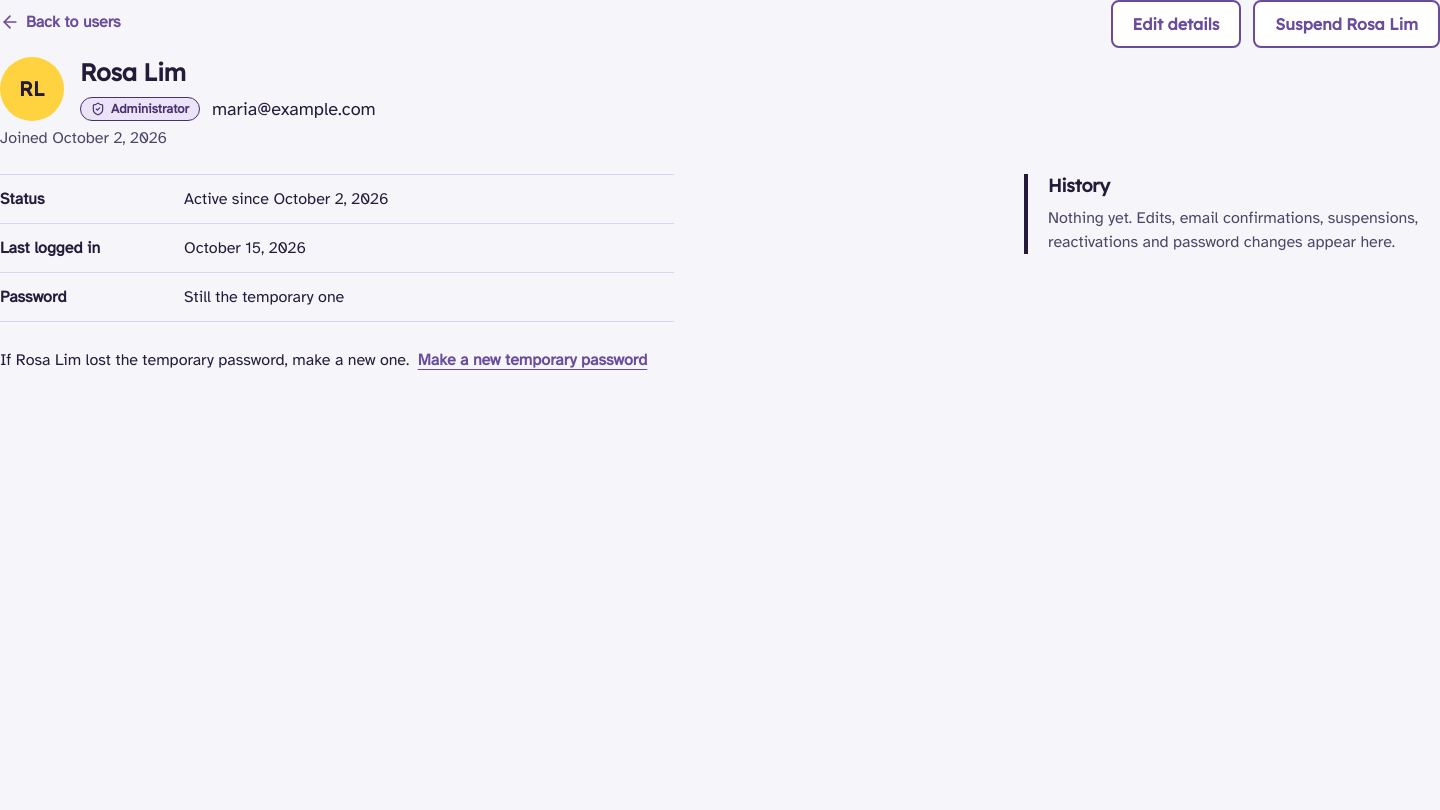
Scenario: UserPage › makes a new temporary password for an administrator who lost theirs
The image size is (1440, 810).
Click the button "Make a new temporary password": (533, 360) top-left (414, 338), bottom-right (651, 382)
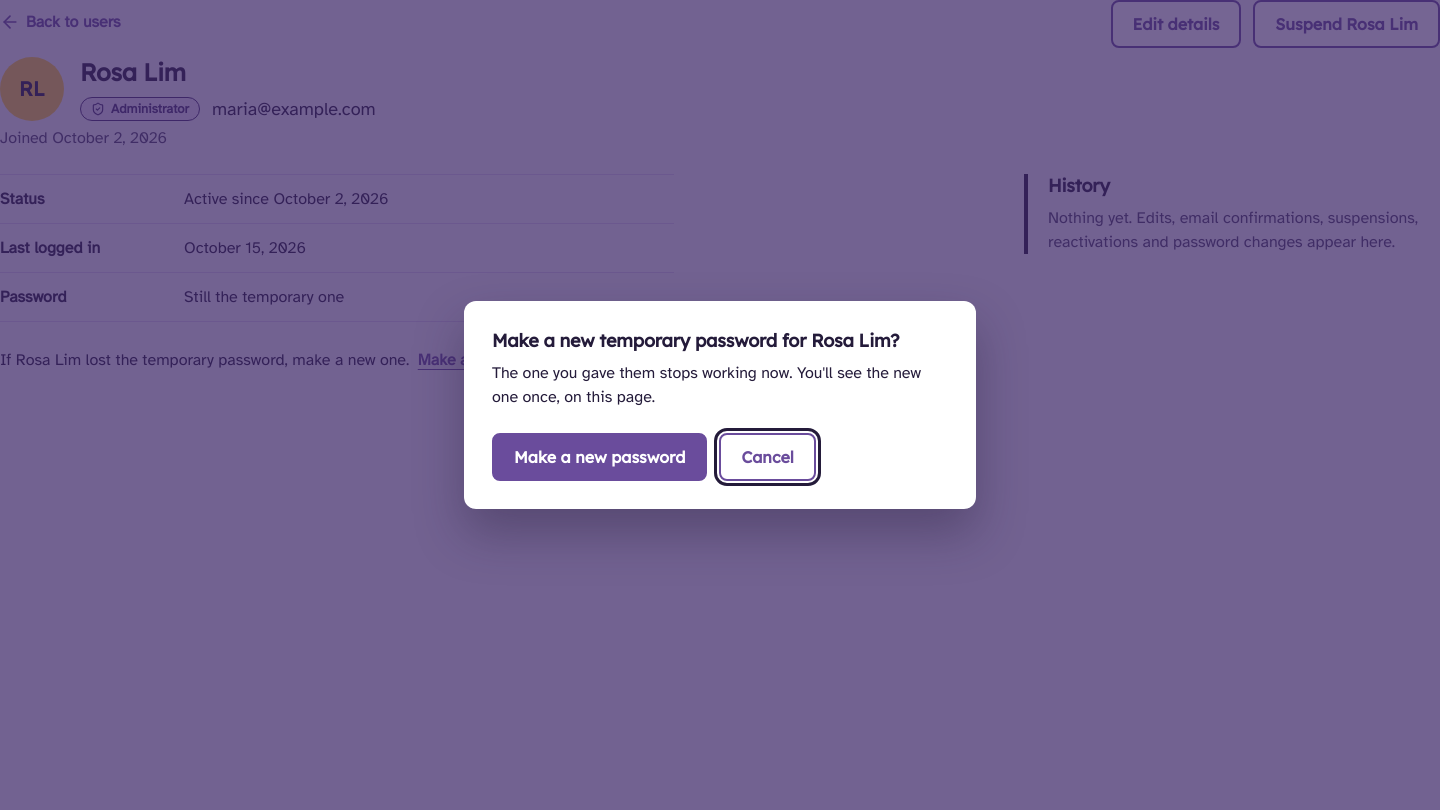
Click the button "Make a new password": (600, 457) top-left (492, 433), bottom-right (707, 481)
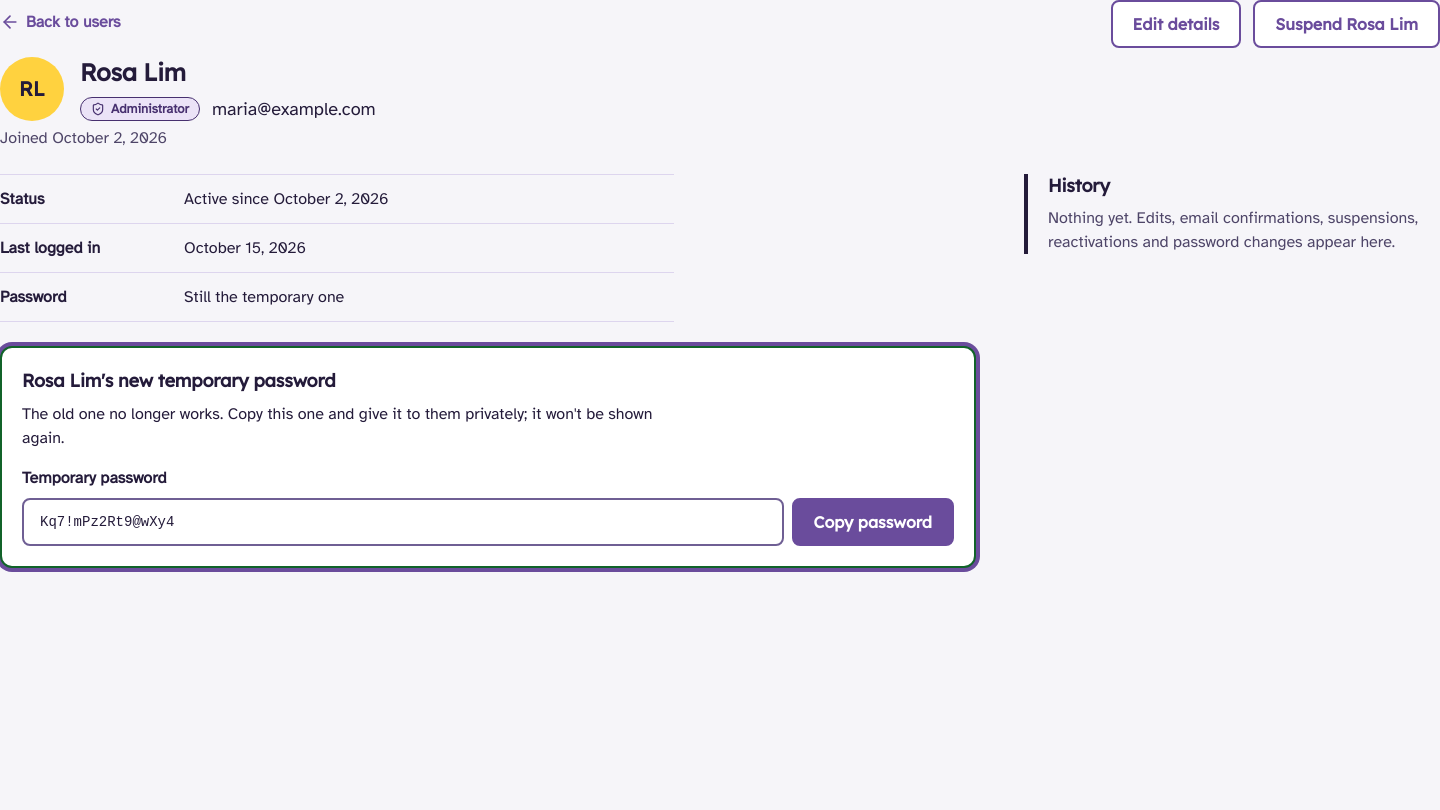
expect the field labelled "Temporary password" holds "Kq7!mPz2Rt9@wXy4": met, box top-left (22, 498), bottom-right (784, 546)
expect the button "Make a new temporary password" is gone: met
